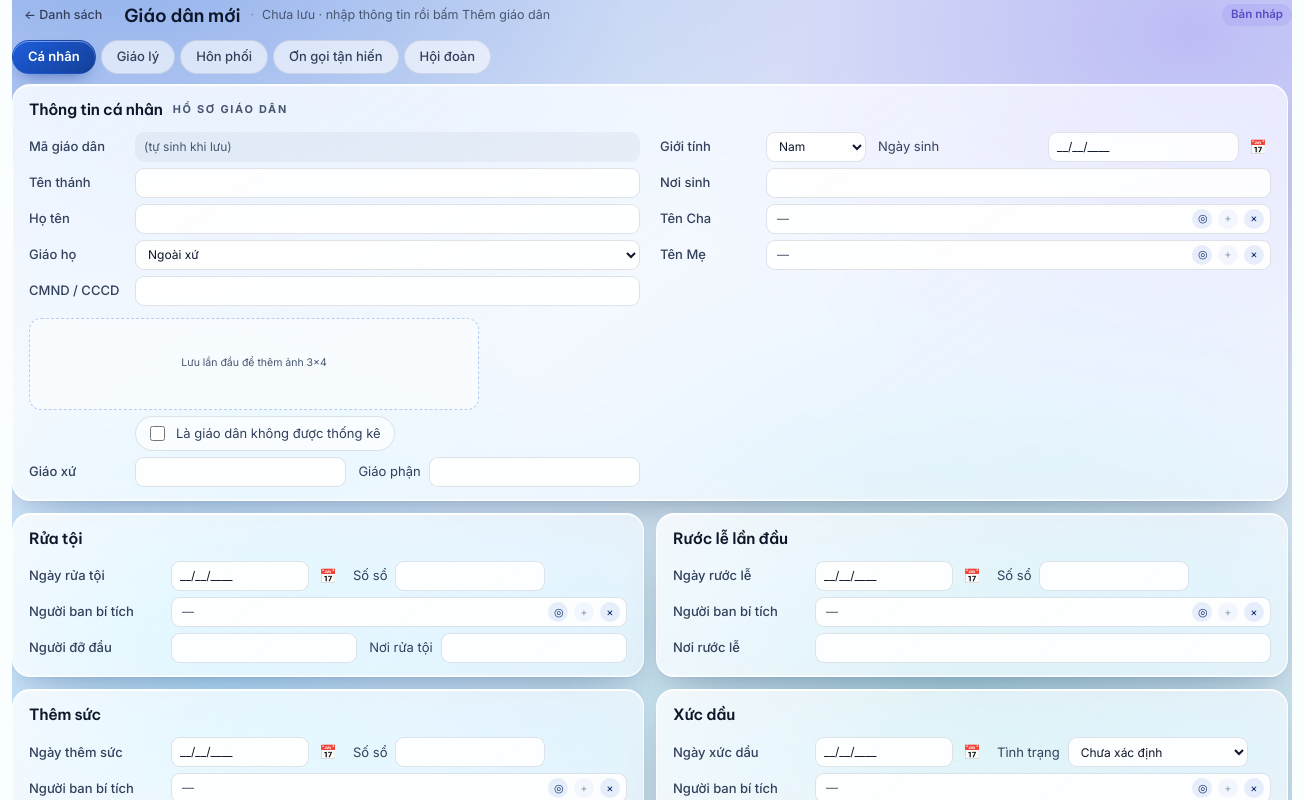
GiaoDanDetailPage › tao moi thanh cong (khong canh bao) thi goi POST va mo the giao dan vua tao
This screenshot has width=1304, height=800.
Type "Nguyễn Văn Mới" into the field labelled "Họ tên" at (388, 219), box [135,204,640,234]
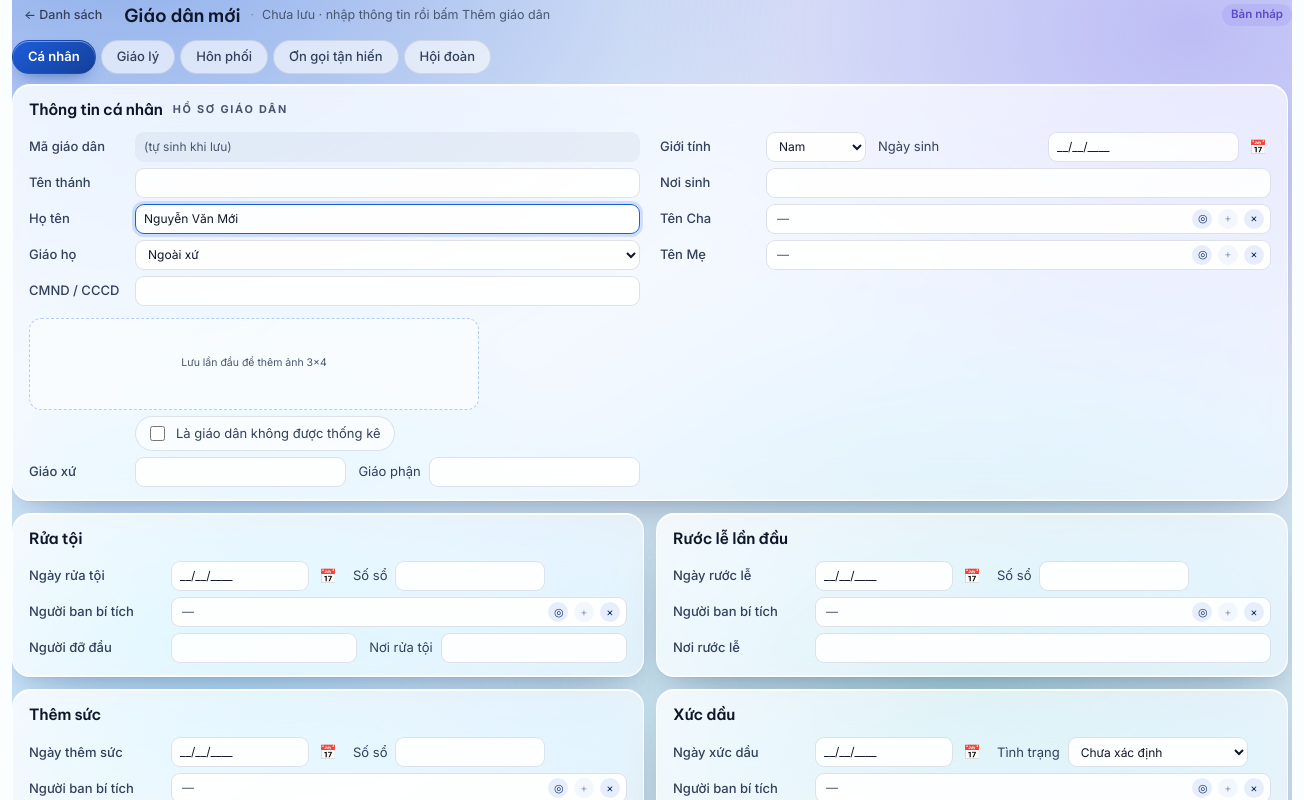
Select "Nam" in the dropdown labelled "Giới tính" at (816, 147), box [766,132,866,162]
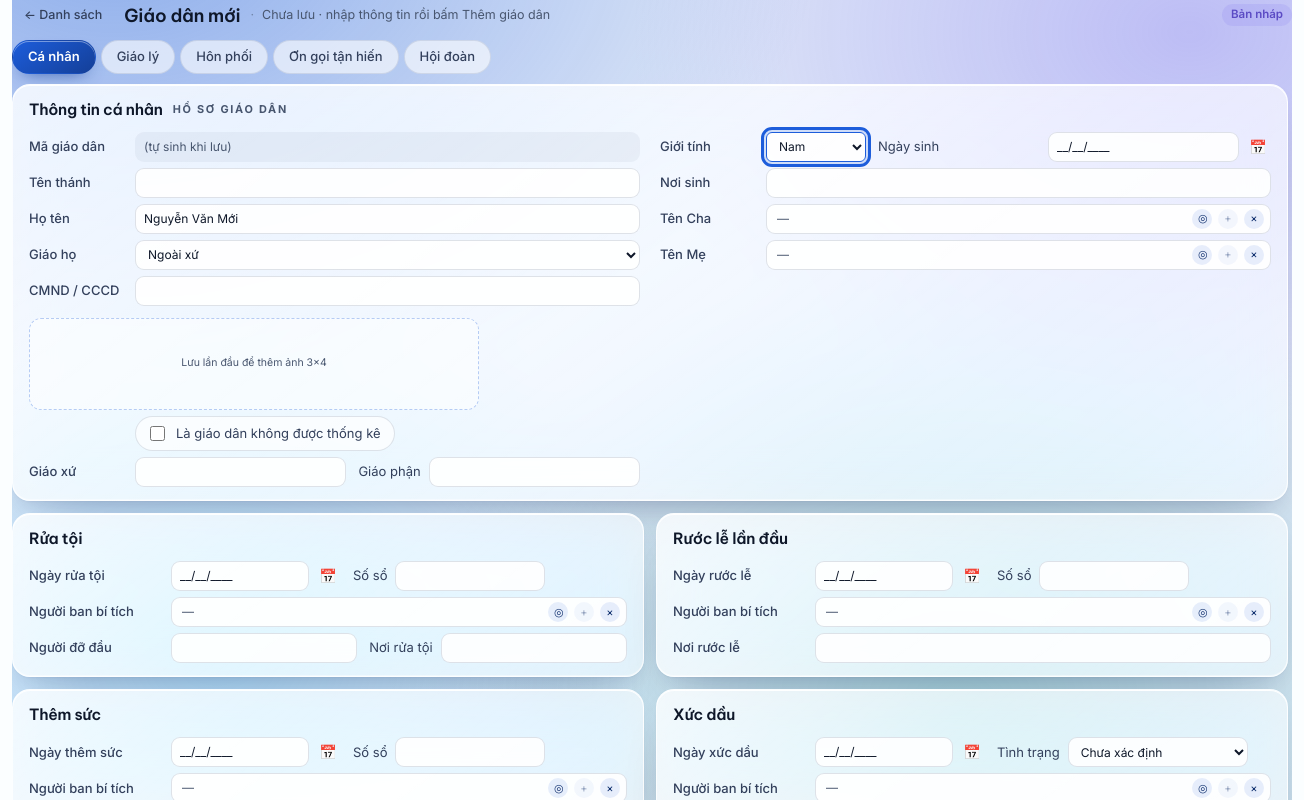
Type "01/01/2000" into the field named "Ngày sinh" at (1144, 147), box [1048,132,1239,162]
(page scrolled)
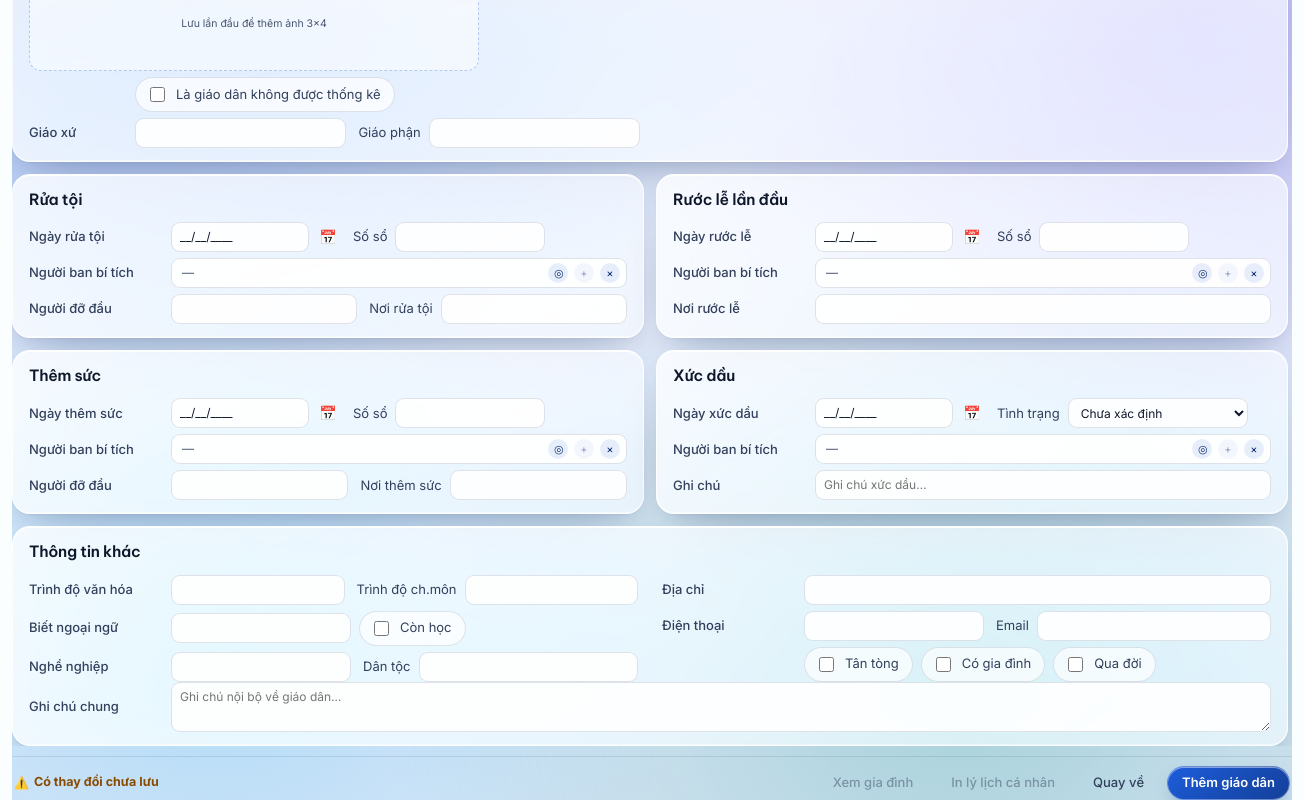
Click the button "Thêm giáo dân" at (1229, 782), box [1167,766,1290,799]
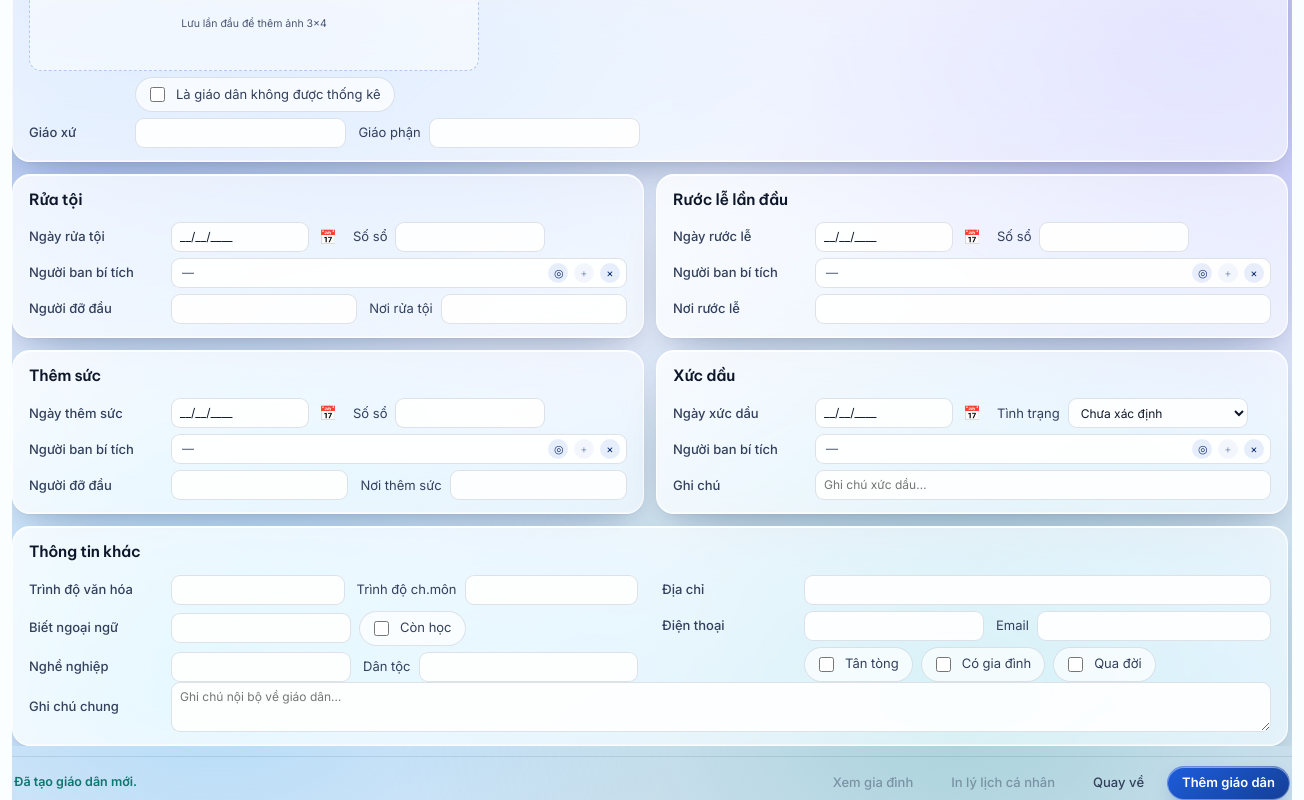
Expected: the text "Đã tạo giáo dân mới." is shown, [14,773,137,792]
